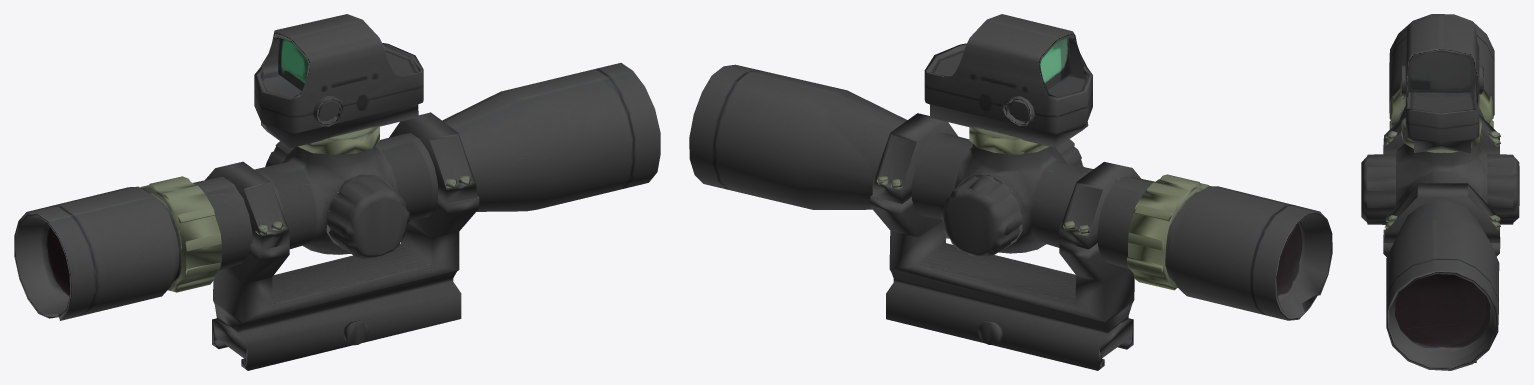
The model's file is sight_hybrid_4x.glb.
3 views of the same model, side by side, from view 1: azimuth 30°, elevation 25°; view 2: azimuth 150°, elevation 25°; view 3: azimuth 270°, elevation 25° (orthographic). The views are drawn at different scales.
Size of the model in its own units: 0.9575 by 0.479 by 0.2461.
Materials: 1 (1 with a texture image).
